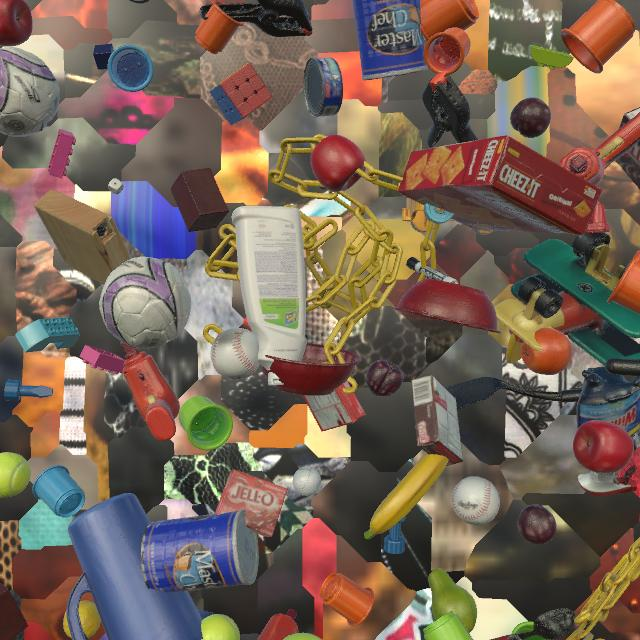ycb_002_master_chef_can: (140, 509, 259, 593), (353, 0, 428, 80)
ycb_003_cracker_box: (398, 135, 602, 235)
ycb_007_tuna_fish_can: (303, 57, 343, 118), (129, 0, 150, 4)
ycb_008_pudding_box: (411, 375, 463, 466), (615, 107, 640, 189)
ycb_009_gelatin_box: (215, 469, 288, 537), (302, 381, 366, 431)
ycb_011_banana: (364, 453, 449, 539)
ycb_013_apple: (310, 134, 366, 192), (573, 420, 634, 473), (0, 0, 33, 47)
ycb_014_lemon: (63, 601, 101, 639)
ycb_016_pear: (428, 568, 477, 633)
ycb_017_orange: (521, 328, 572, 375)
ycb_018_plum: (510, 97, 551, 138), (518, 505, 557, 545), (366, 360, 403, 397)
